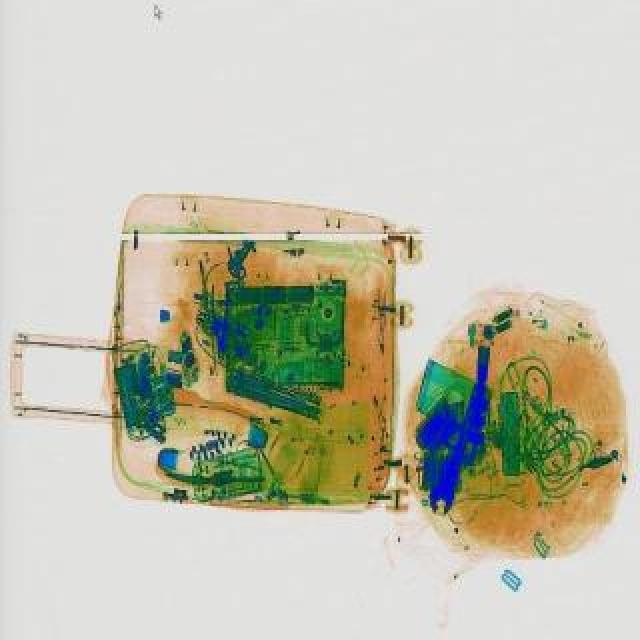scissors: (424, 378, 492, 516)
wrench: (210, 282, 230, 362)
